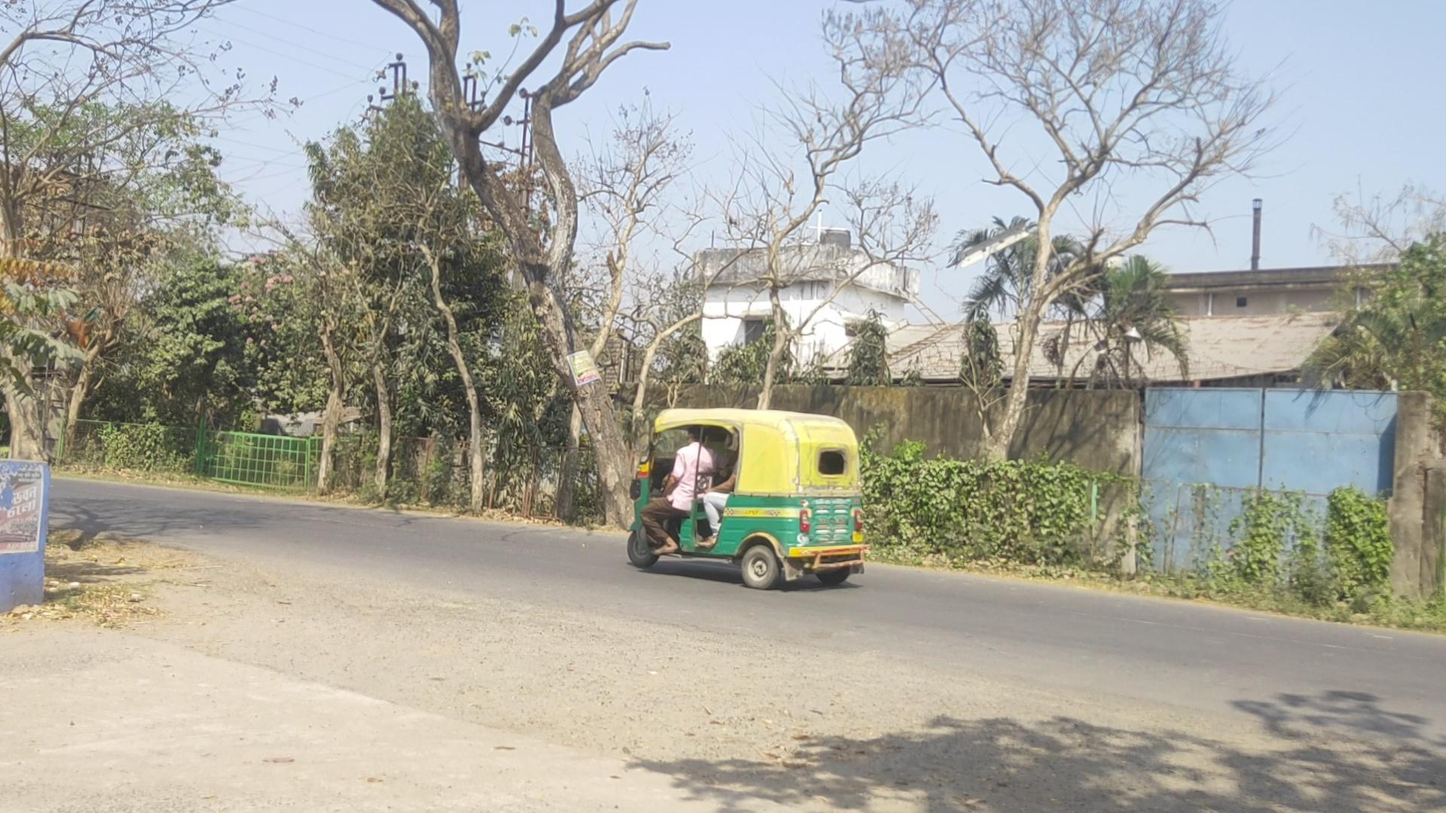Auto: (627, 406, 868, 589)
